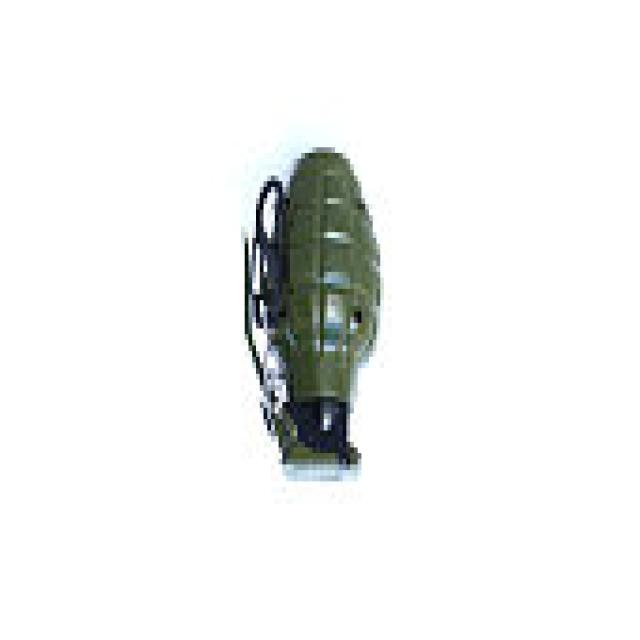grenade: (236, 148, 390, 491)
